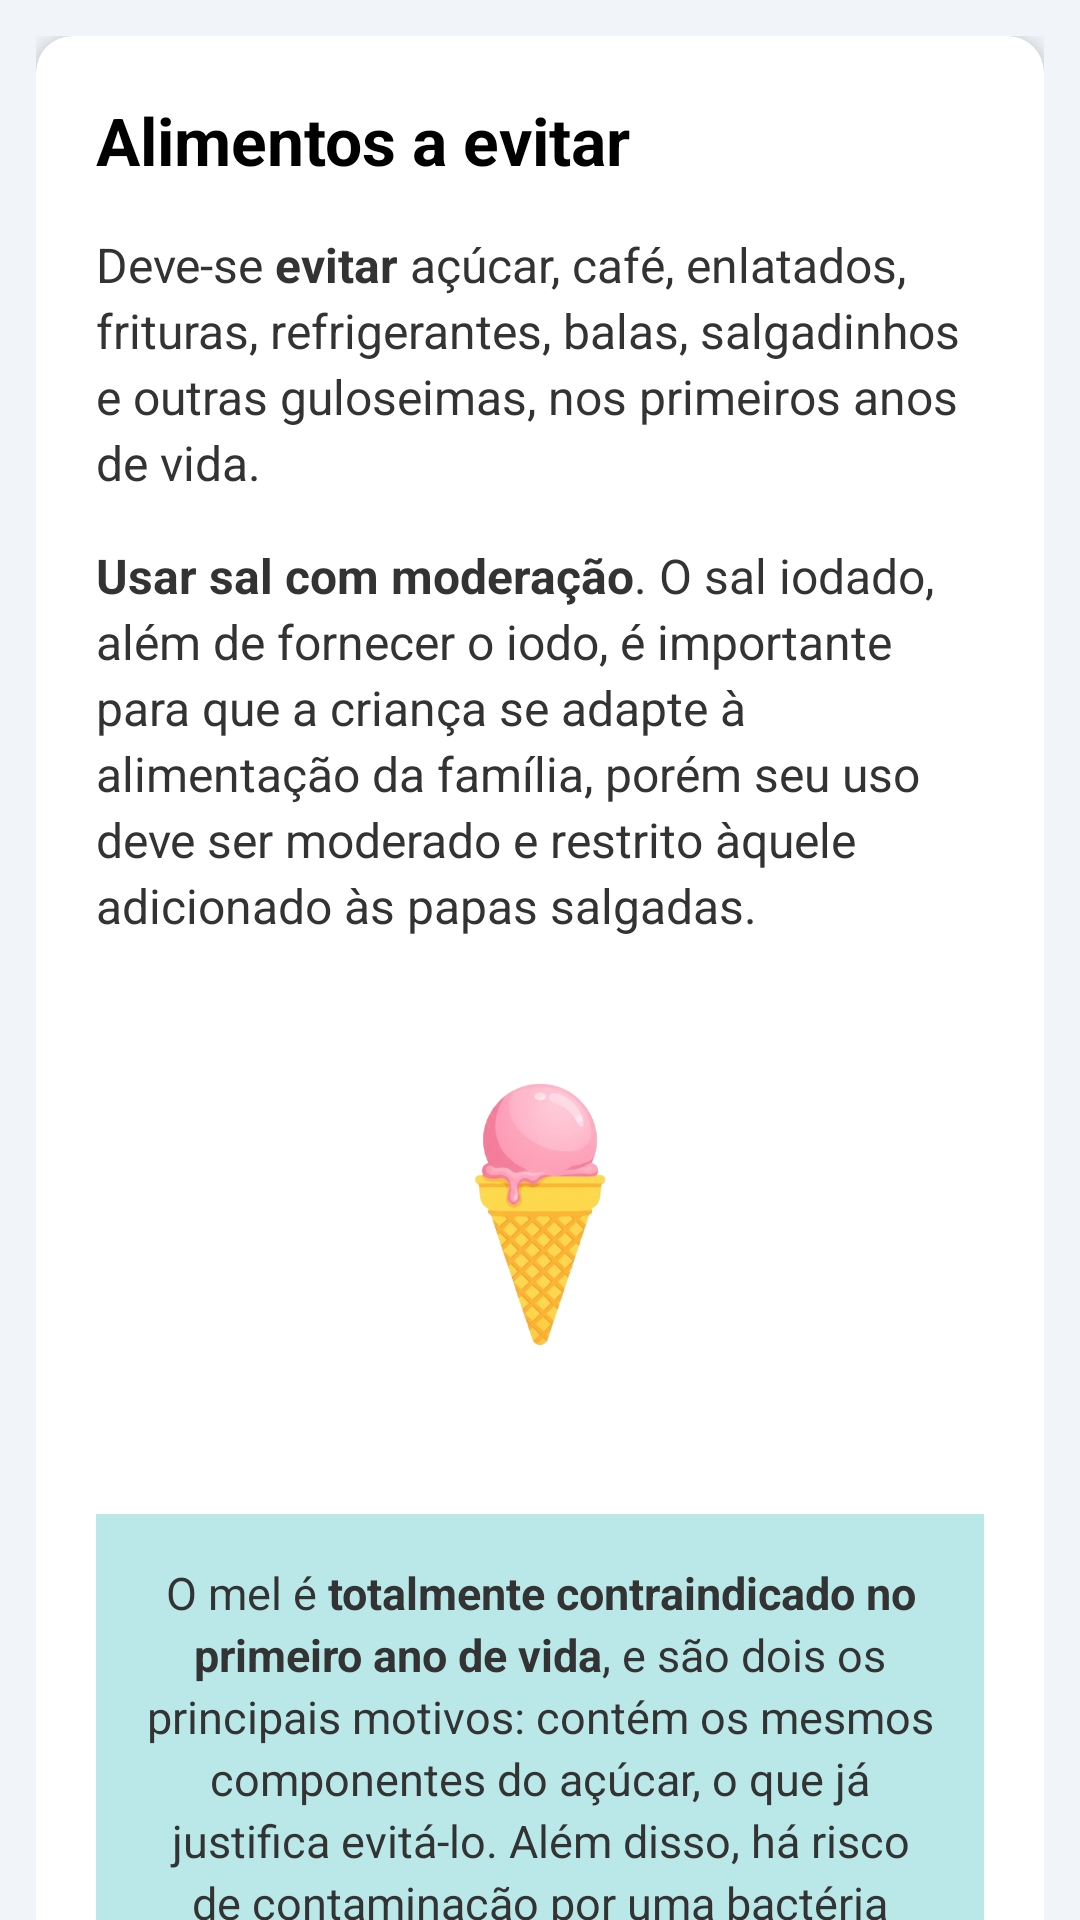

Screen size 1080px x 1920px. Icon name, then its box in pixels as (x1, y1, x2, y2):
Ilustração de um sorvete: (475, 1084, 606, 1346)
